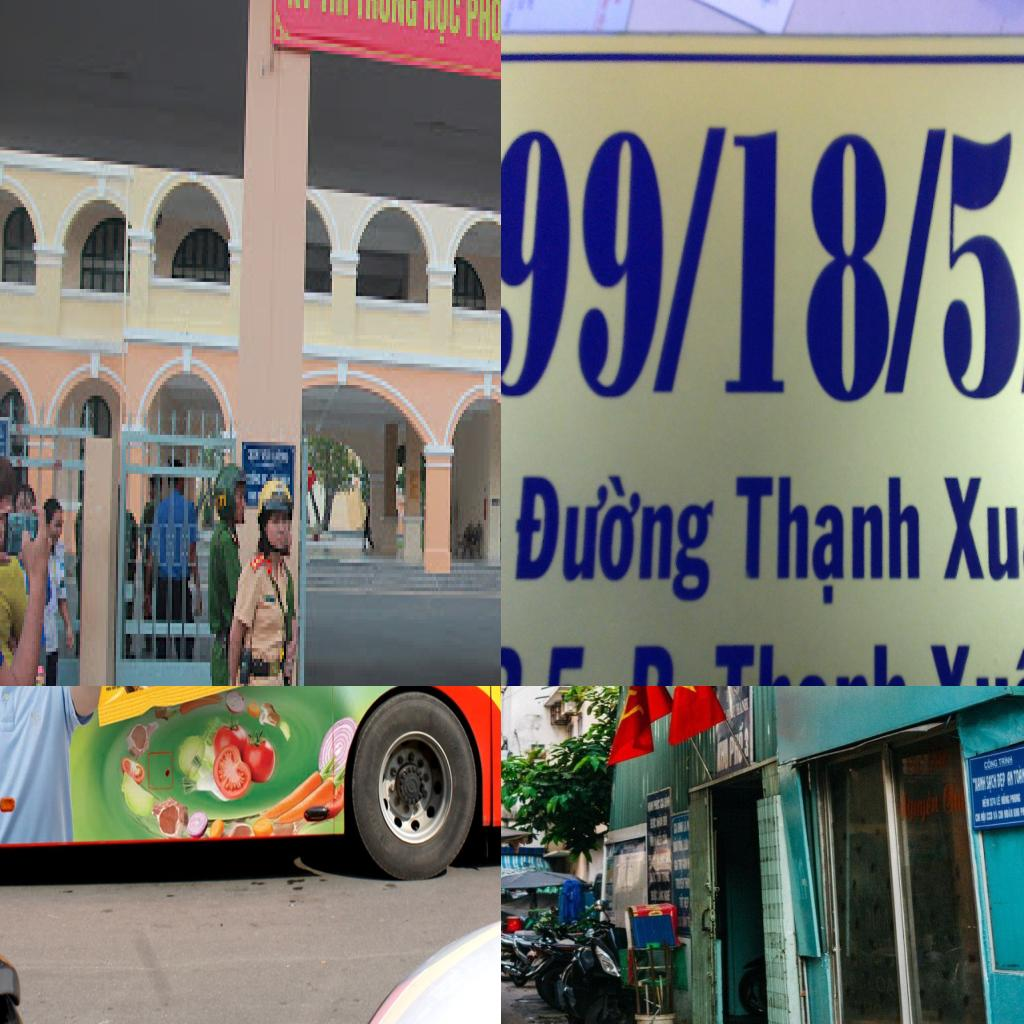text: (717, 128, 895, 402), (501, 126, 674, 404), (506, 461, 716, 604), (732, 458, 926, 608), (647, 126, 730, 394), (942, 128, 1023, 402), (880, 124, 950, 396), (933, 465, 1024, 596), (705, 635, 914, 686), (621, 637, 697, 686), (534, 638, 607, 686), (352, 0, 420, 33), (420, 0, 462, 47), (466, 0, 501, 47), (906, 788, 940, 827), (316, 0, 354, 22), (942, 782, 966, 816), (284, 0, 316, 15), (971, 775, 987, 793), (986, 772, 998, 794), (982, 757, 998, 771), (996, 771, 1006, 793), (998, 754, 1014, 767), (744, 726, 750, 760), (1006, 770, 1016, 788)
